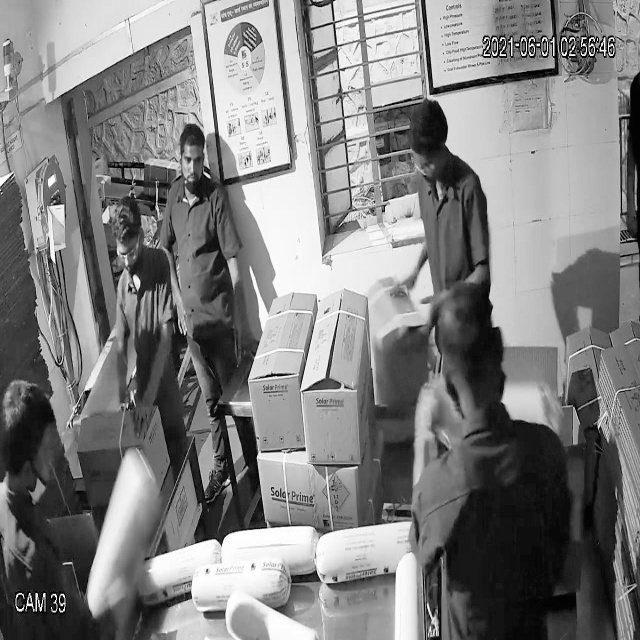Gafas: (109, 231, 153, 270)
